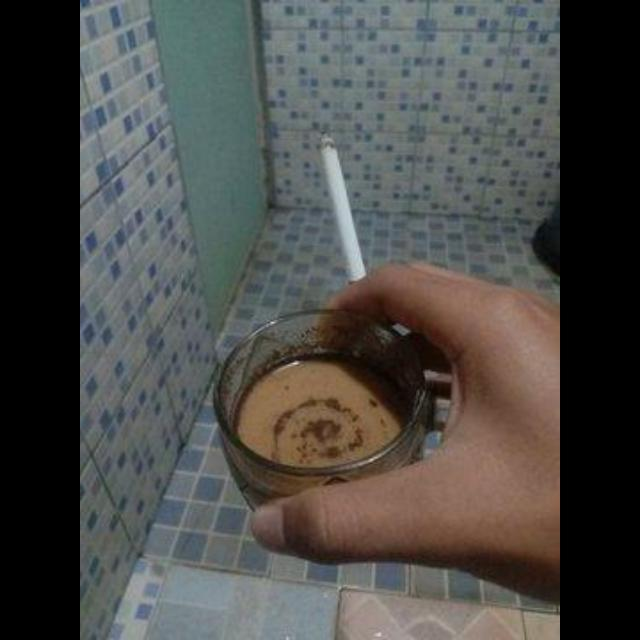rokok: (313, 129, 373, 281)
